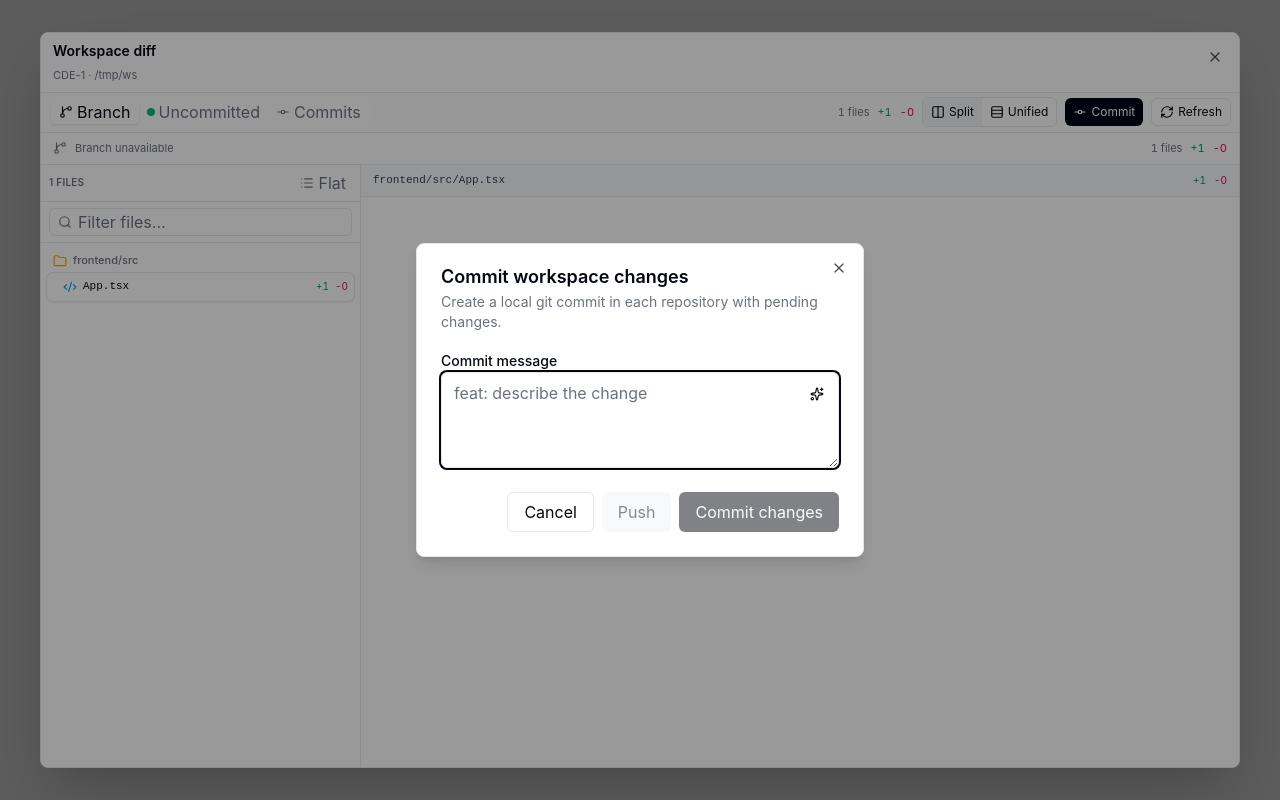
Test case: GitDiffModal › fills the commit message generated by the sparkle action
This screenshot has width=1280, height=800.
Click the button named "generate commit message": click(817, 394) left=803, top=380, right=831, bottom=408
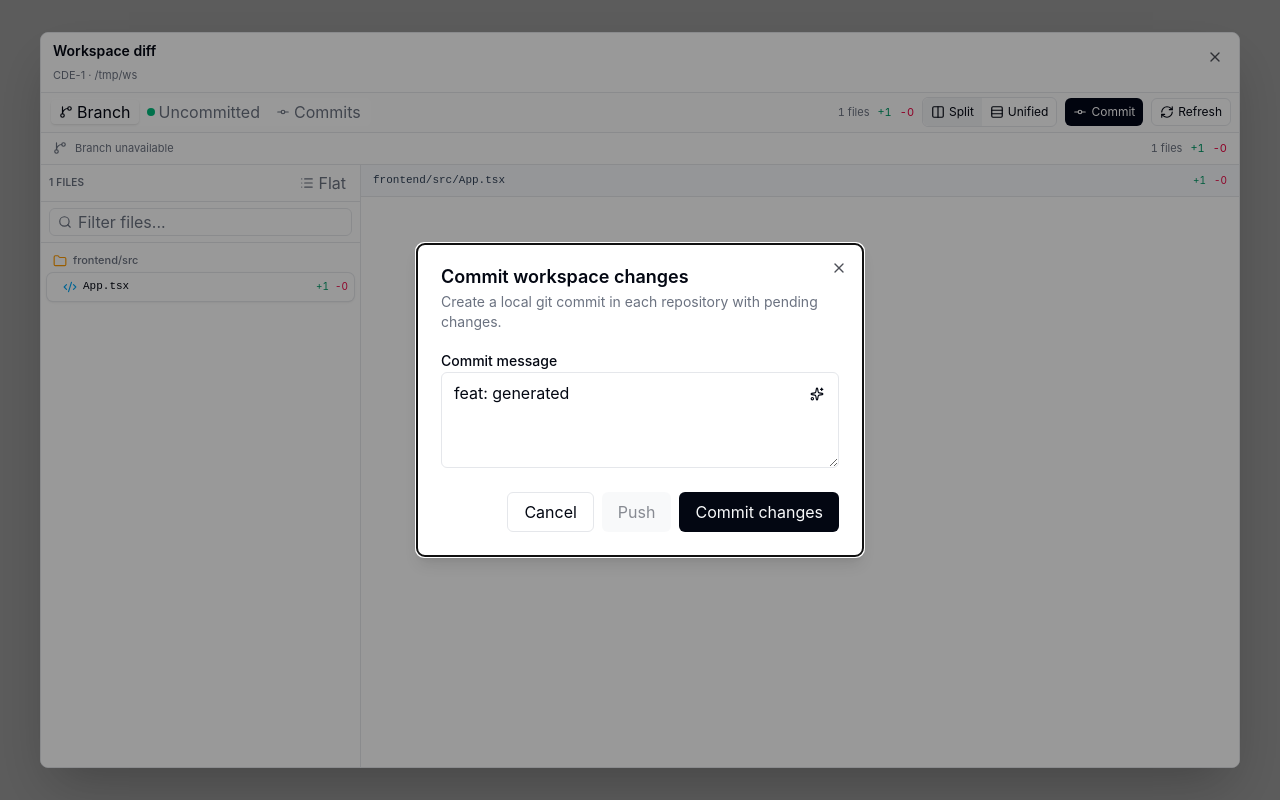
Now the text box showing "feat: generated" is shown, box left=441, top=372, right=839, bottom=468
